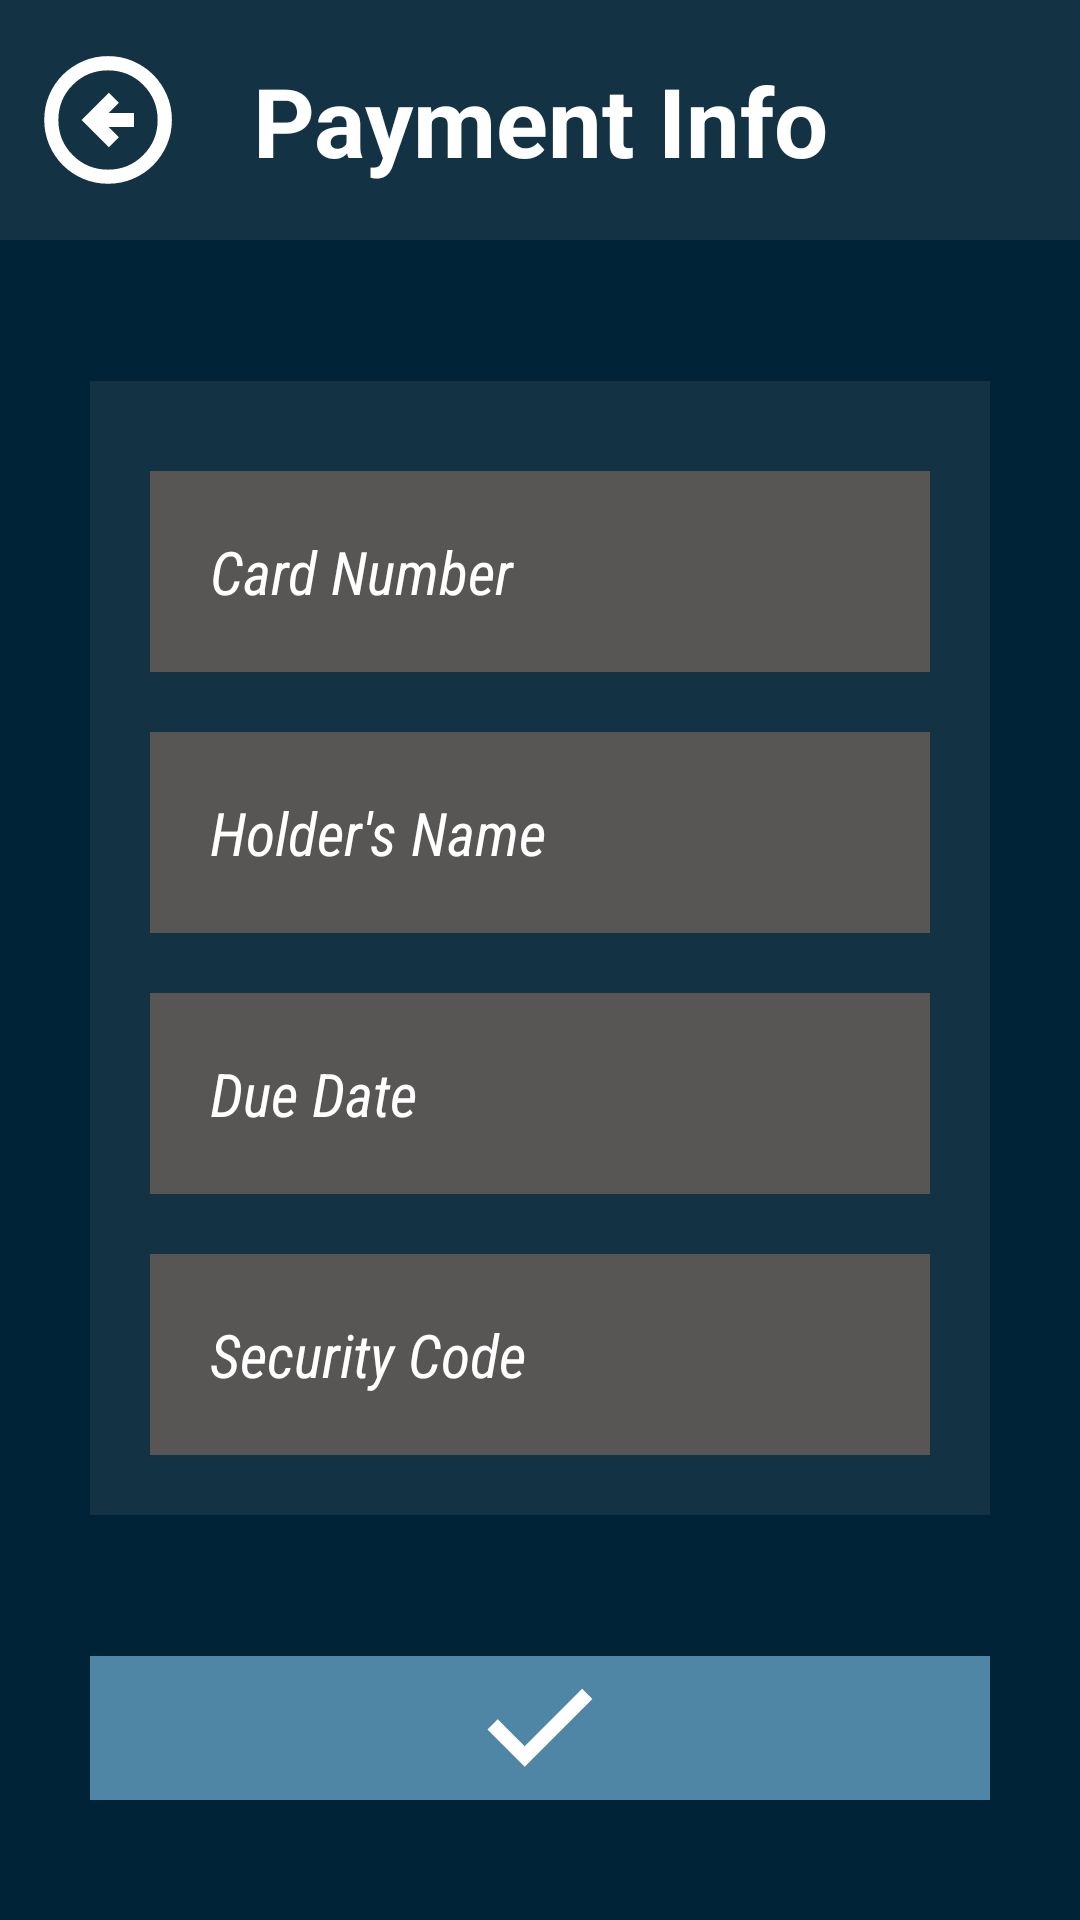

Icons on this 1080px x 1920px Android screen, each with its box as (x1, y1, x2, y2):
arrow back: (44, 56, 172, 184)
